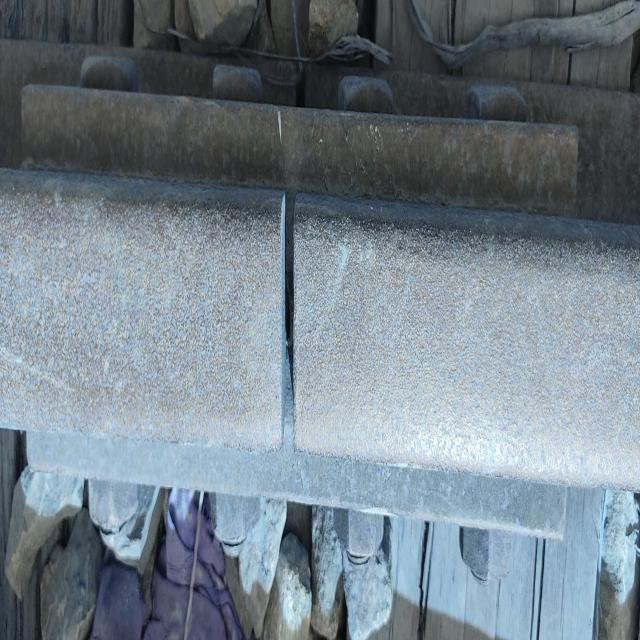Good Joint: (23, 56, 584, 578)
